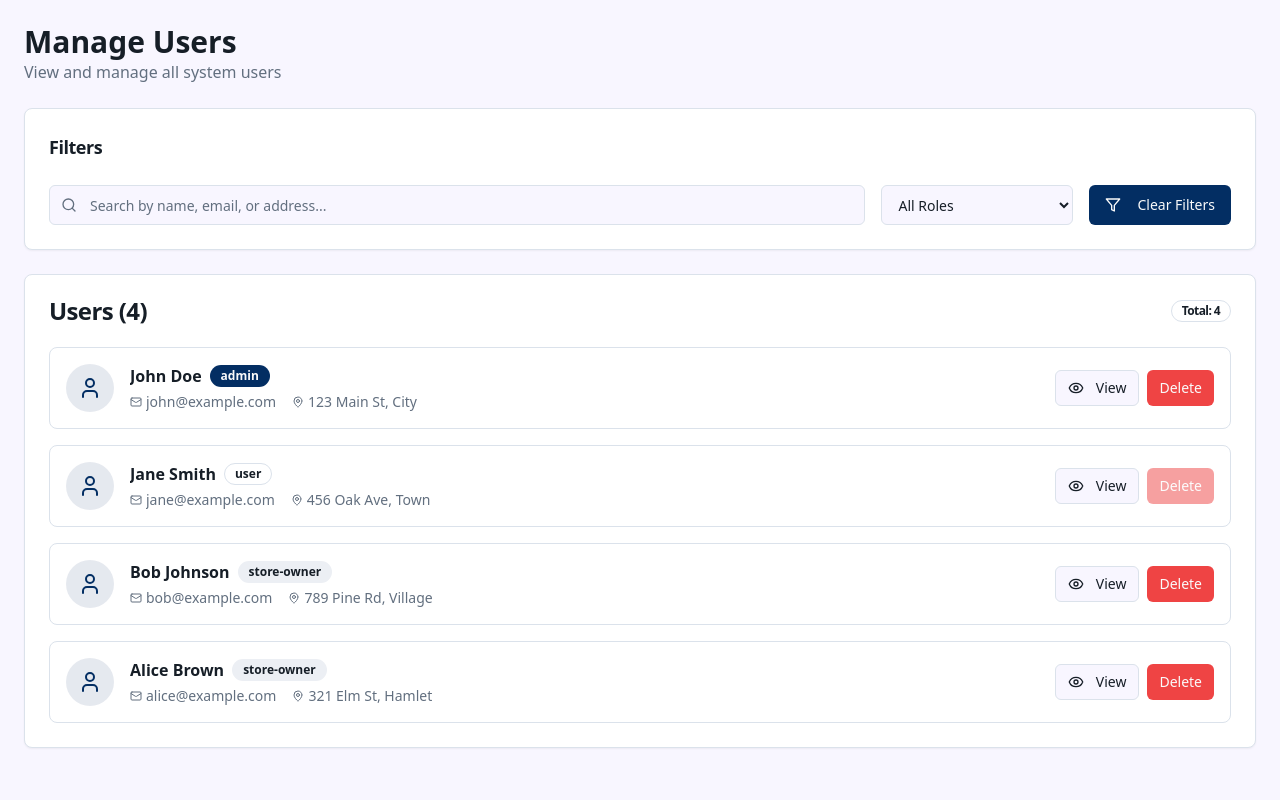
Test: AdminUsers › should show no results message when no users match filters
# Search for non-existent user
Type "NonExistentUser" into the field with placeholder "Search by name, email, or address..." at (457, 205), box [49,185,865,225]
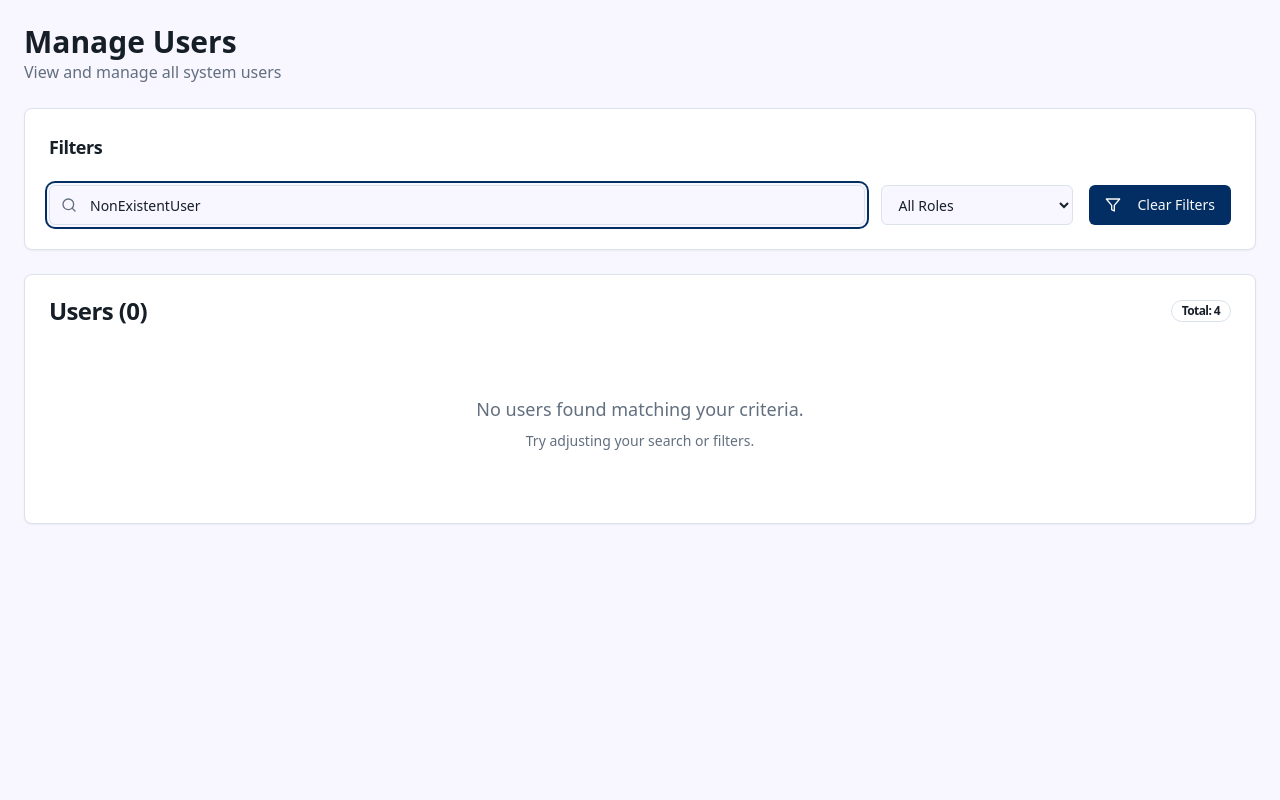
Check: the text "No users found matching your criteria." is shown, box [476,397,804,421]
